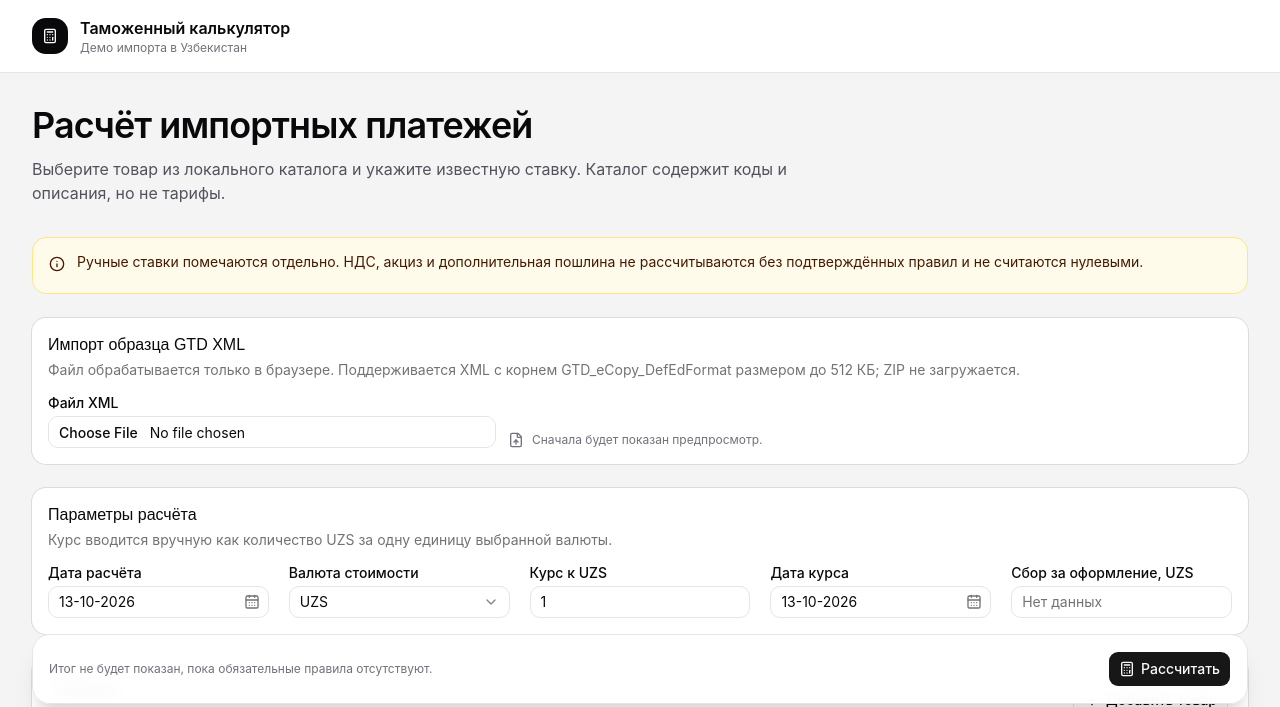
Test case: calculator page › synchronizes typed dates and calendar selections
This screenshot has width=1280, height=707.
Replace the text in the field labelled "Дата расчёта" with "25-12-2026" at (144, 602), box [49,587,240,617]
Click the button named "Дата расчёта: открыть календарь" at (252, 602), box [240,590,264,614]
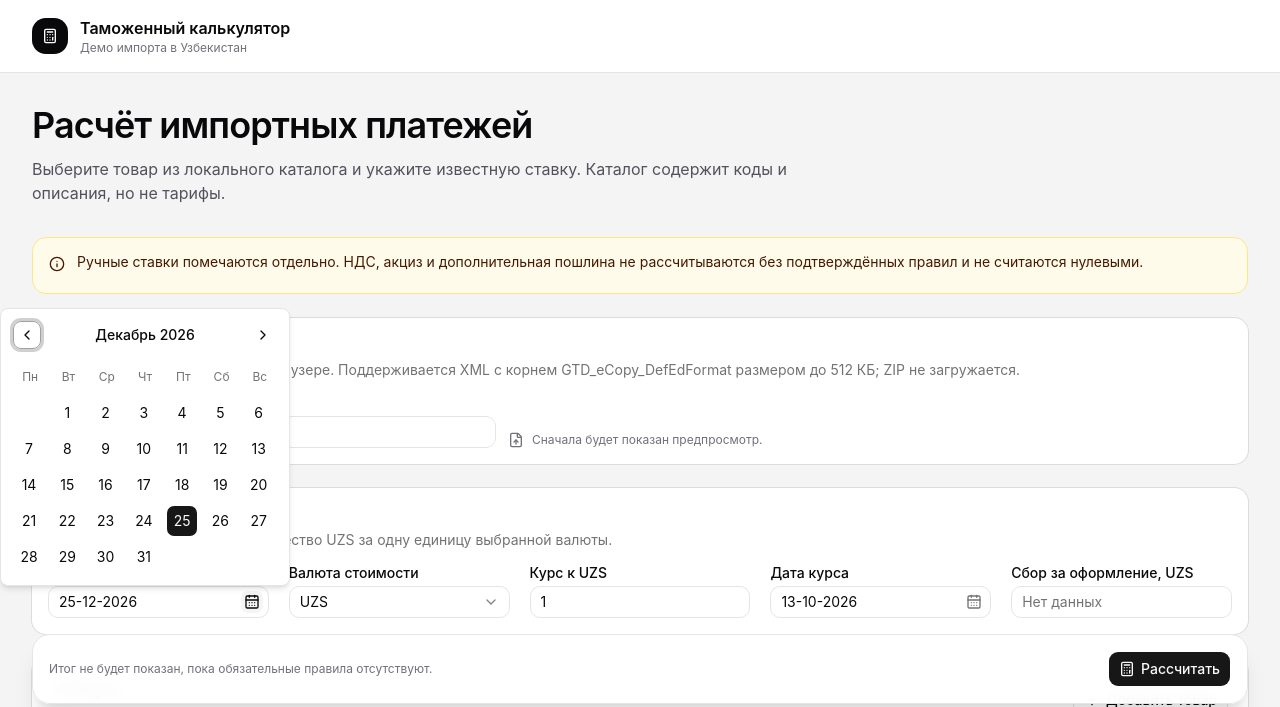
Expected: the text "Декабрь 2026" is shown, [95,325,195,345]
Click the button "25" at (182, 521), box [166,505,198,537]
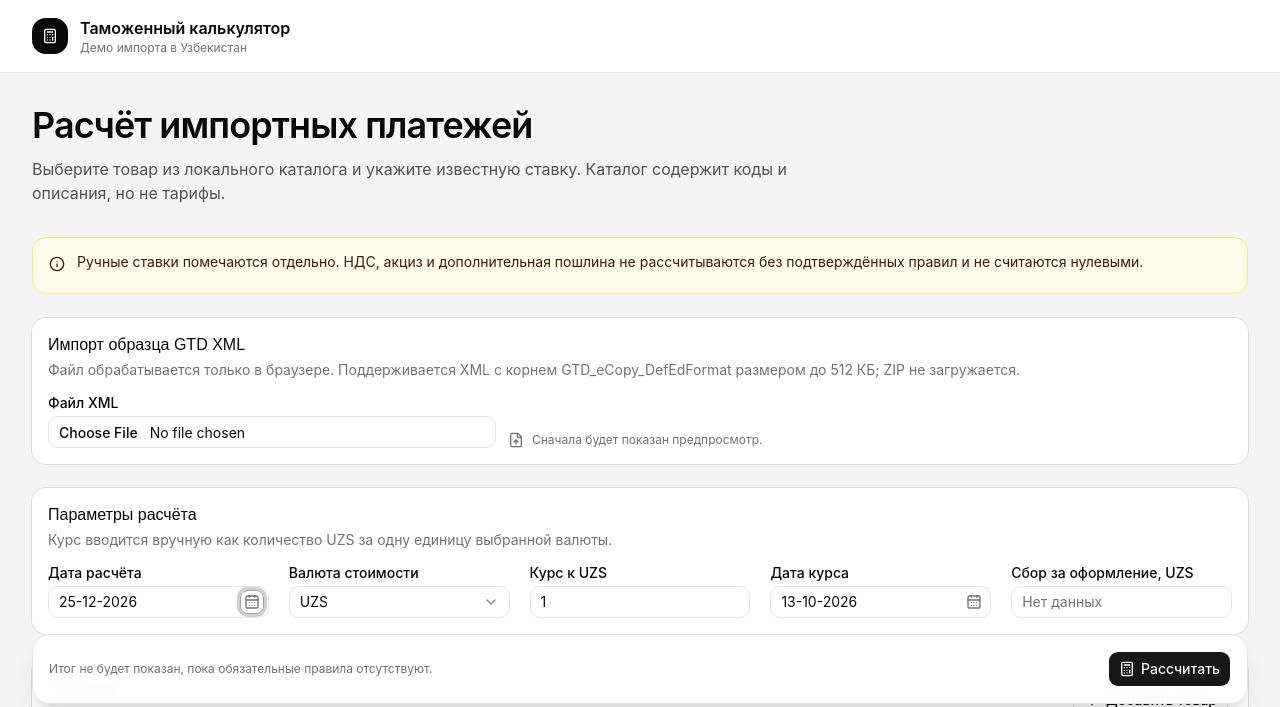
Replace the text in the field labelled "Дата расчёта" with "14-02-2027" at (144, 602), box [49,587,240,617]
Click the button named "Дата расчёта: открыть календарь" at (252, 602), box [240,590,264,614]
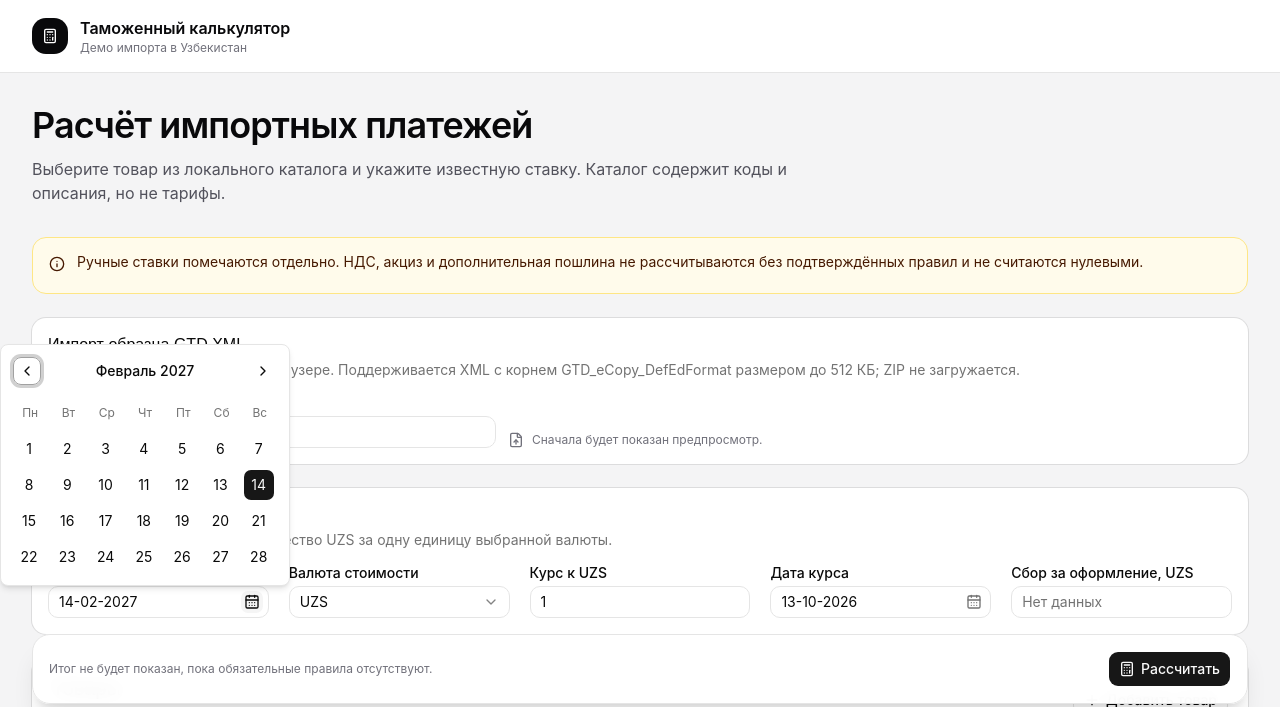
Expected: the text "Февраль 2027" is shown, [96,361,194,381]
Click the button "18" at (144, 521), box [128,505,160,537]
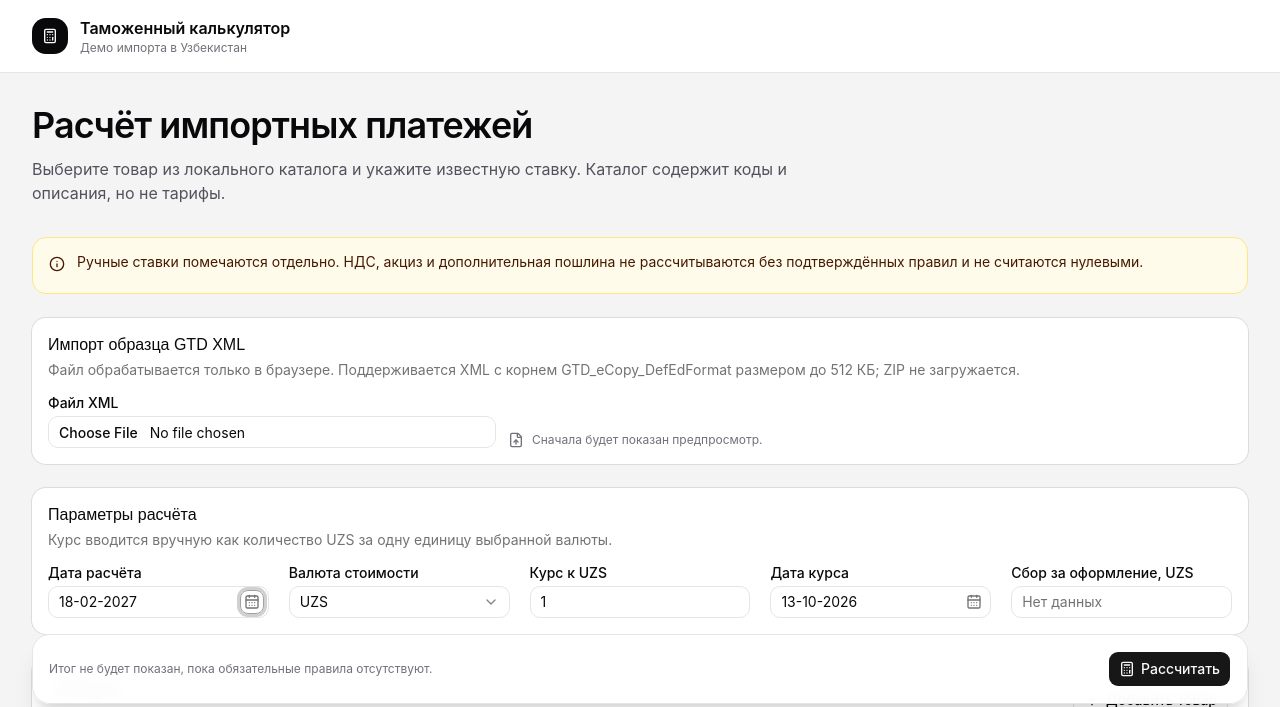
Expected: the field labelled "Дата расчёта" holds "18-02-2027"
Replace the text in the field labelled "Дата расчёта" with "21-03-2027" at (144, 602), box [49,587,240,617]
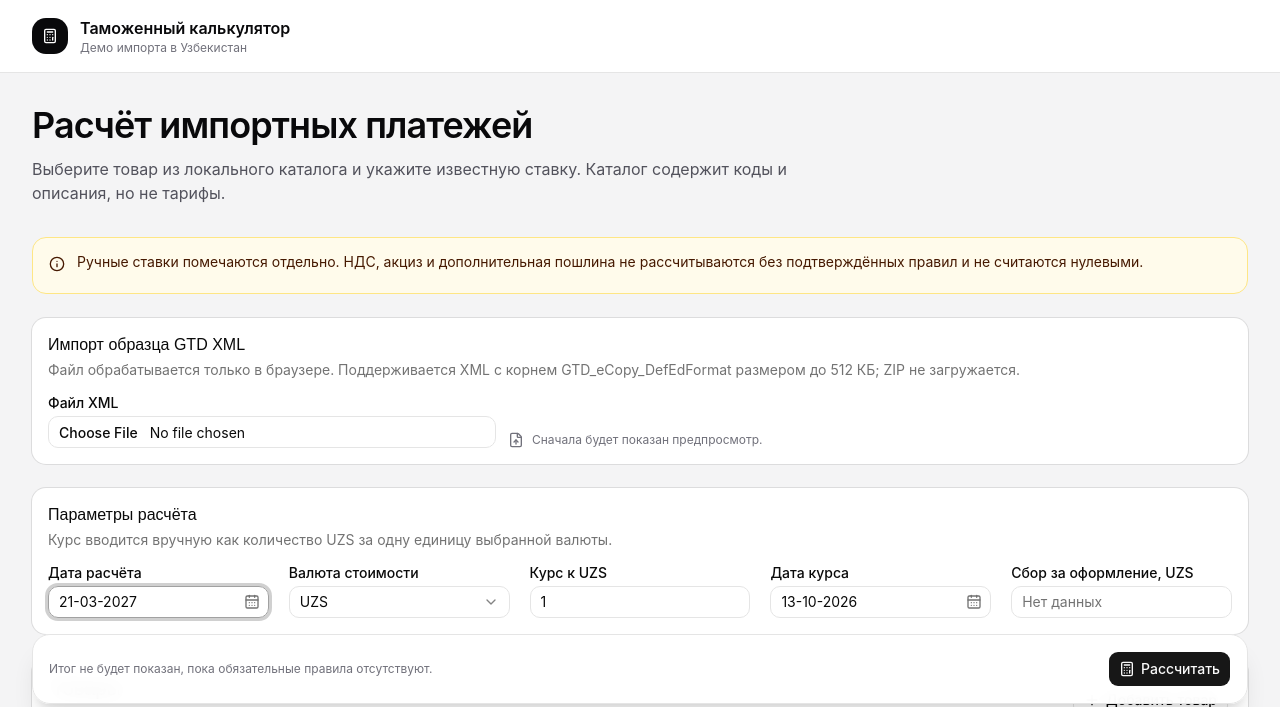
Click the button named "Дата расчёта: открыть календарь" at (252, 602), box [240,590,264,614]
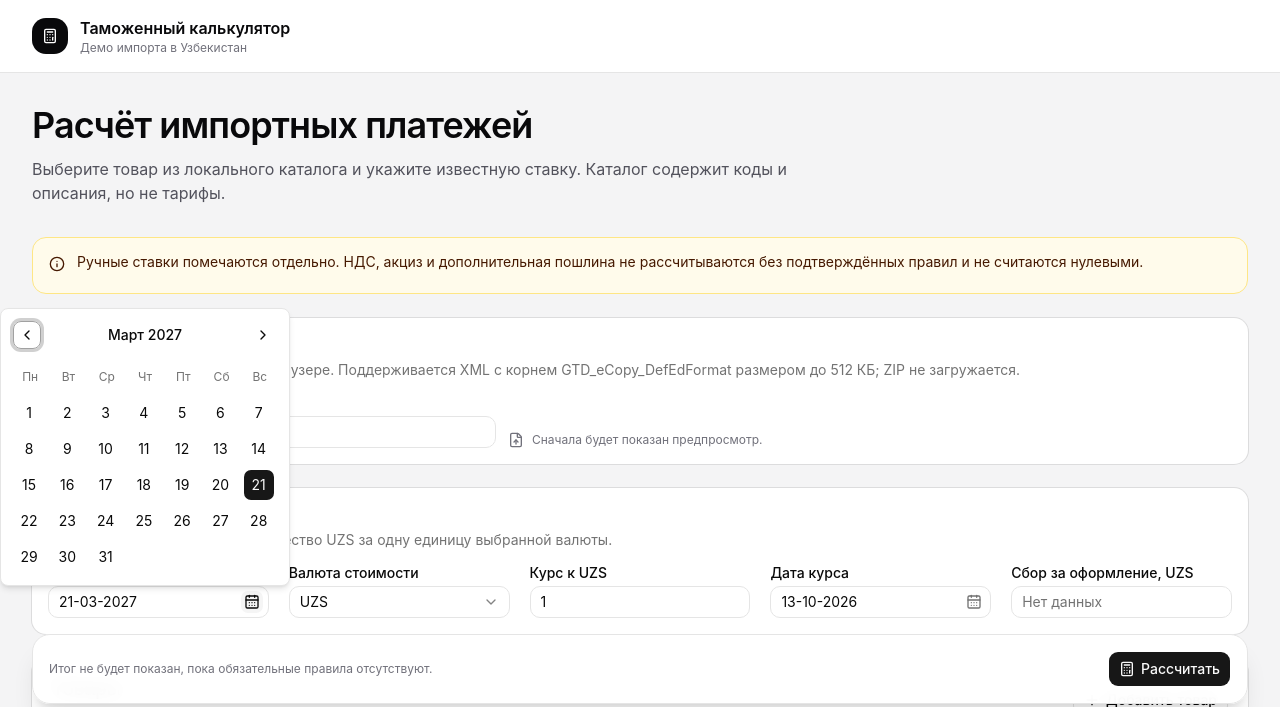
Expected: the text "Март 2027" is shown, [108,325,182,345]
